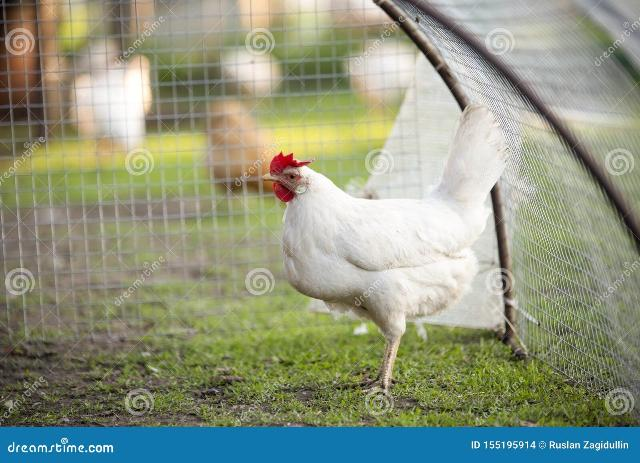Chicken: (261, 105, 506, 393)
